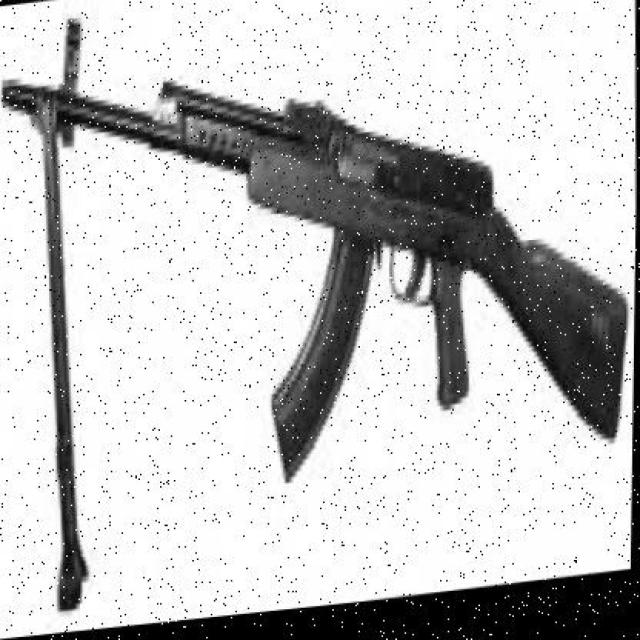weapon: (1, 17, 628, 612)
